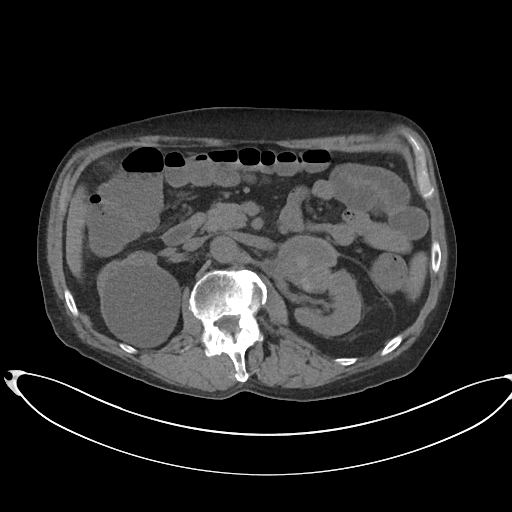Lesion: (274, 231, 343, 286)
